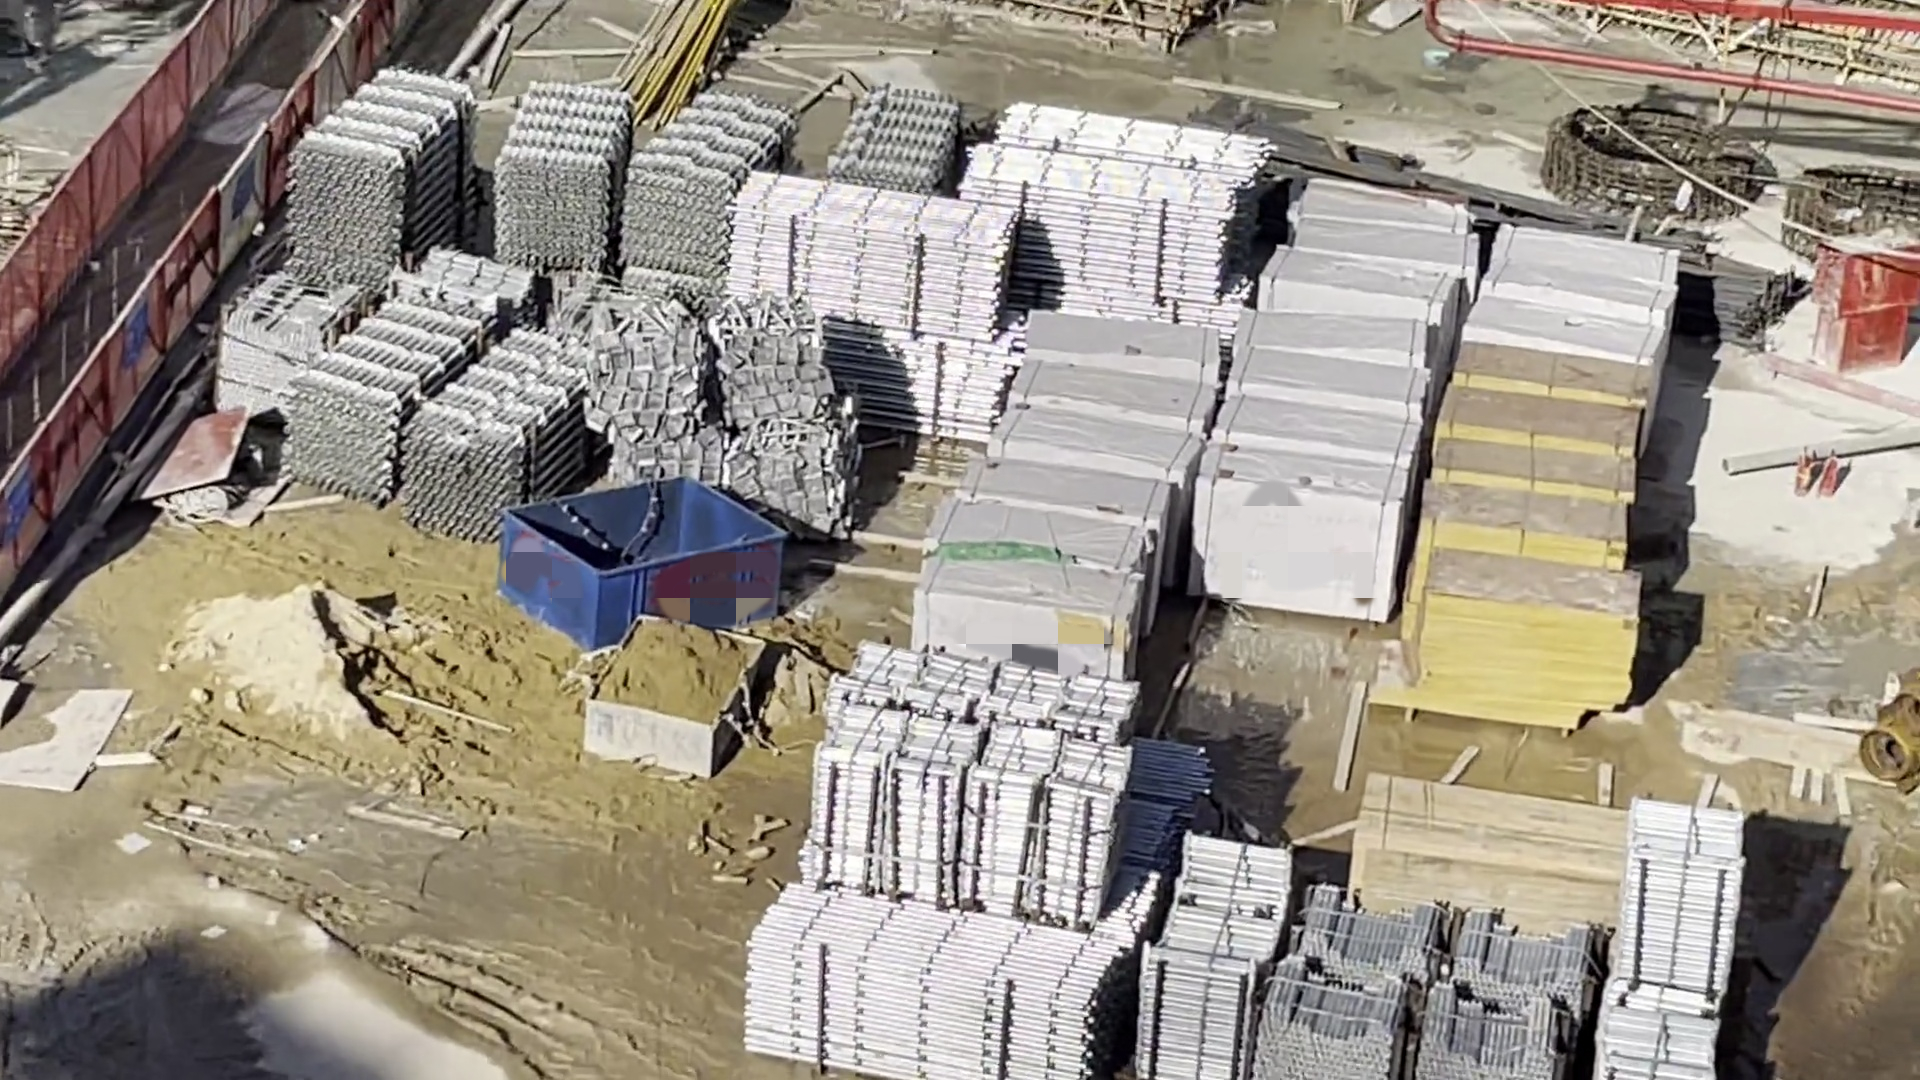board: (1414, 568, 1636, 676), (1429, 375, 1665, 425), (1422, 506, 1662, 524), (1441, 447, 1633, 458)
fence: (1, 156, 167, 455), (161, 24, 291, 265)
hopper: (529, 442, 781, 641)
rebar: (1273, 116, 1484, 167), (1693, 241, 1803, 328)
scaffold: (756, 862, 1096, 1064), (808, 651, 1113, 872), (1303, 857, 1600, 1080), (231, 294, 524, 506), (713, 161, 1000, 328), (1124, 754, 1259, 1039), (1631, 819, 1764, 1080), (1004, 112, 1193, 274), (303, 76, 419, 291), (799, 307, 964, 444), (498, 62, 608, 247), (624, 102, 708, 252), (833, 79, 928, 196), (429, 237, 514, 302)
wood: (1371, 769, 1619, 931)
